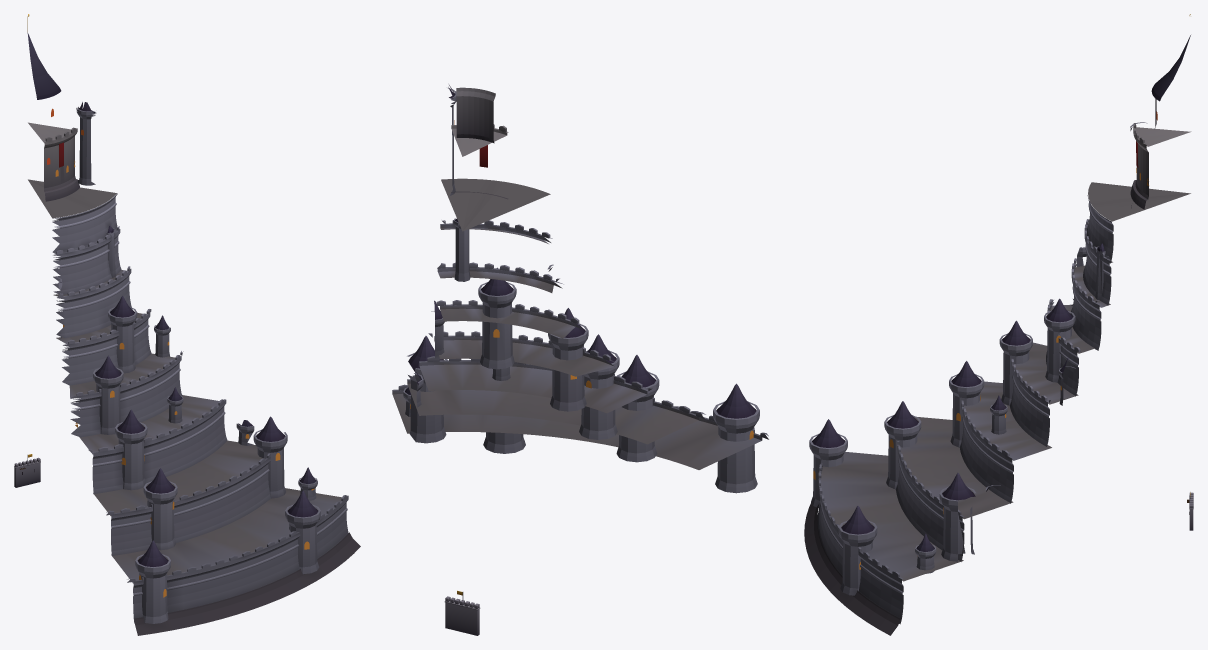
The model's file is fortress-s1-BEy_gQay.glb.
3 views of the same model, side by side, from view 1: azimuth 30°, elevation 25°; view 2: azimuth 150°, elevation 25°; view 3: azimuth 270°, elevation 25° (orthographic). The views are drawn at different scales.
Visible parts, largest first — view 1: sc_landmark_5, sc_keep_base; view 2: sc_landmark_5, sc_keep_battle; view 3: sc_landmark_5.
Boxes of the visible parts, box(x1,y1,x2,y2) form: sc_landmark_5: box(27, 14, 360, 635); sc_keep_base: box(16, 462, 40, 487); sc_landmark_5: box(392, 85, 768, 493); sc_keep_battle: box(444, 590, 480, 635); sc_landmark_5: box(804, 14, 1191, 635).
Bounding box in the file's own units: 275 × 479 × 326.
